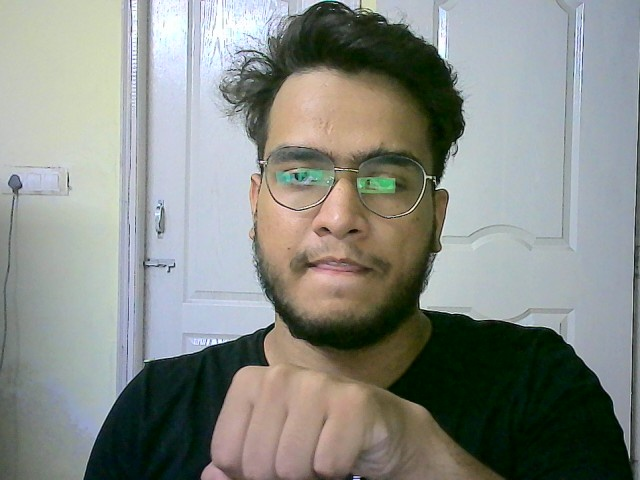Yes: (200, 346, 445, 480)
